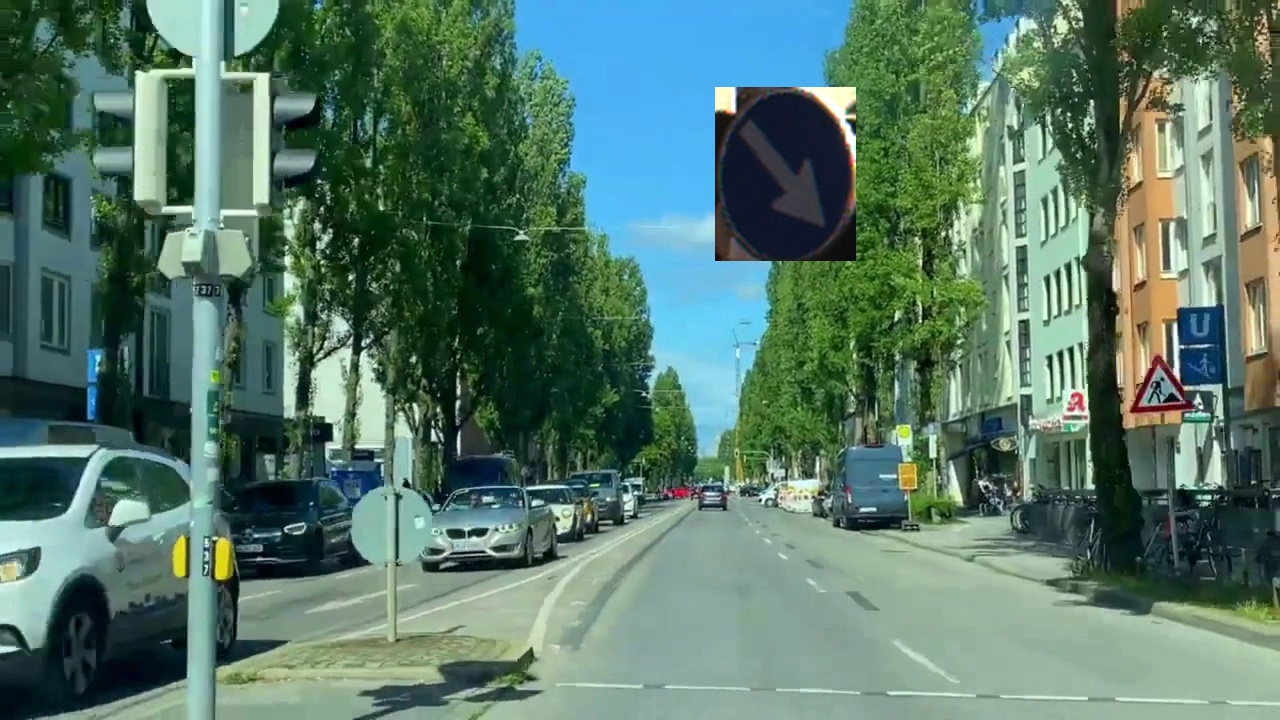Keep right: (715, 87, 856, 261)
